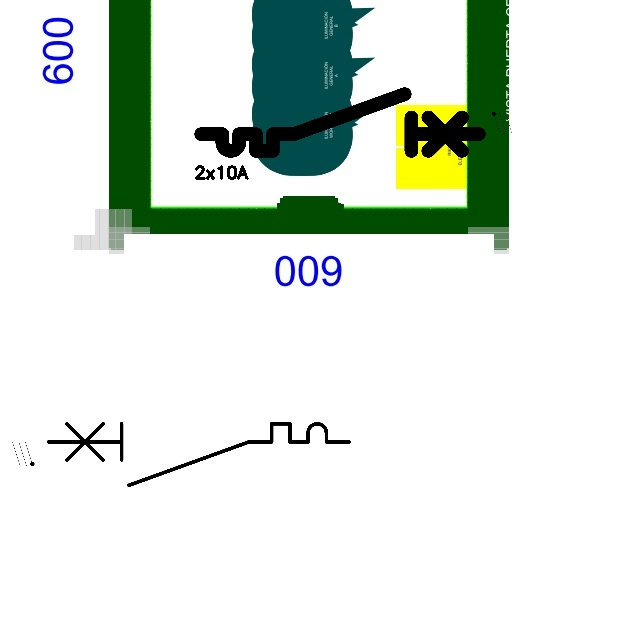interruptor_termomagnetico: (40, 416, 356, 493), (194, 87, 486, 158)
